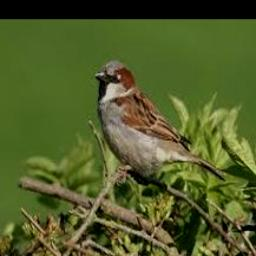Sparrow: (94, 60, 228, 183)
